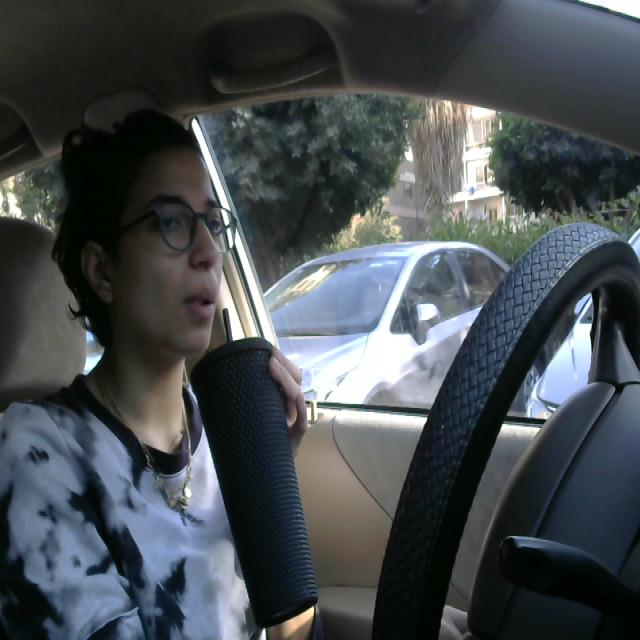drinking: (180, 305, 330, 640)
